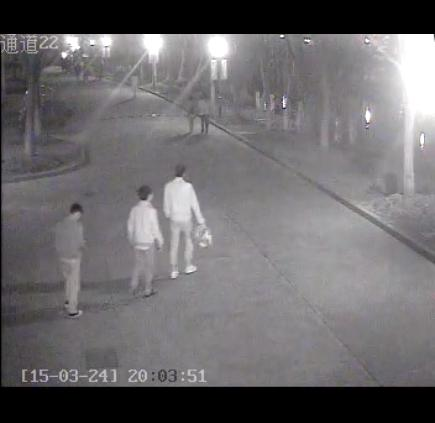person: (159, 167, 219, 282), (43, 188, 89, 326), (119, 182, 163, 307), (175, 91, 200, 144), (192, 89, 212, 137), (124, 71, 147, 112)
